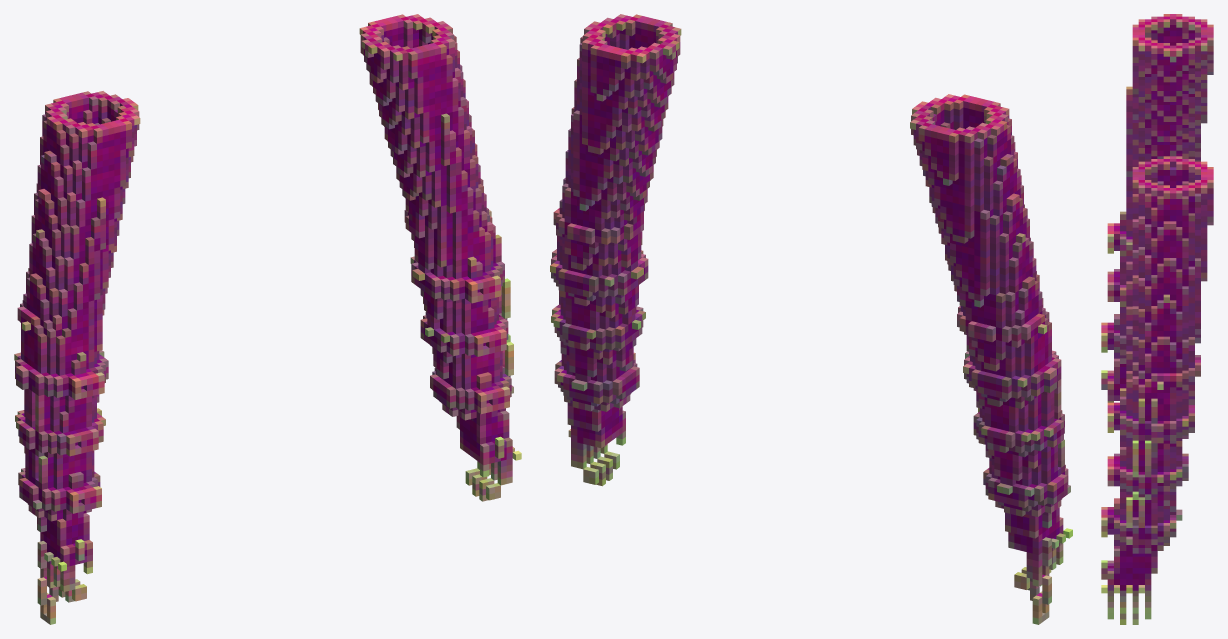
The model's file is armor_set0_hands.glb.
The picture shows the model from 3 angles, left to right: view 1: azimuth 30°, elevation 25°; view 2: azimuth 150°, elevation 25°; view 3: azimuth 270°, elevation 25°; orthographic projection. The views are drawn at different scales.
Visible parts, largest first — view 1: Armor_Set0_hands; view 2: Armor_Set0_hands; view 3: Armor_Set0_hands.
Boxes of the visible parts, x1=… form: Armor_Set0_hands: x1=14, y1=14, x2=521, y2=624; Armor_Set0_hands: x1=550, y1=14, x2=1072, y2=624; Armor_Set0_hands: x1=1101, y1=14, x2=1213, y2=624.
Size of the model in its own units: 0.574 by 0.553 by 0.126.
